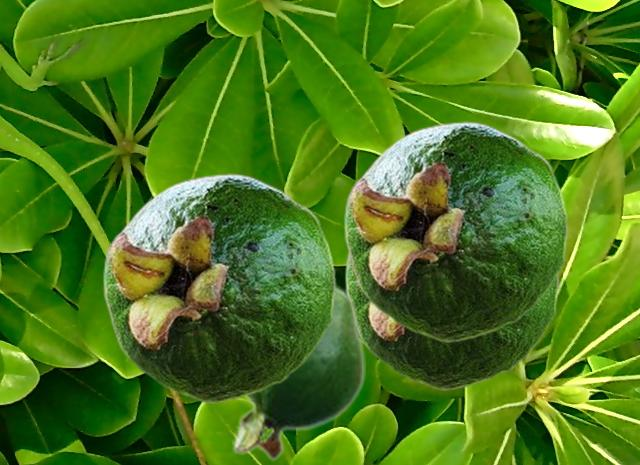guava: (102, 173, 336, 403), (343, 121, 568, 342), (344, 250, 559, 390), (232, 282, 364, 461)
